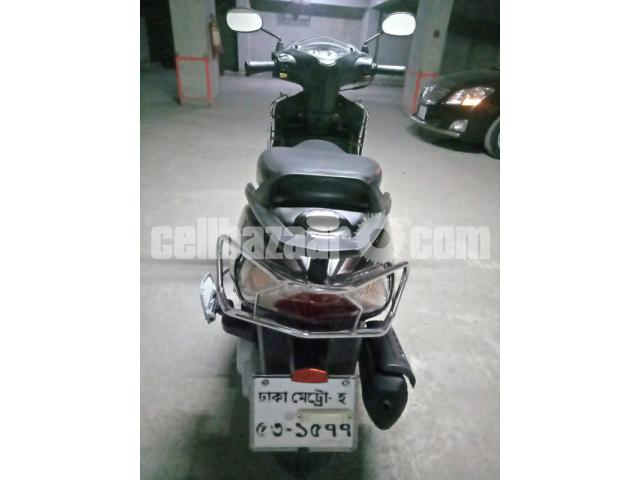car: (408, 64, 499, 159)
scooter: (201, 6, 417, 454)
